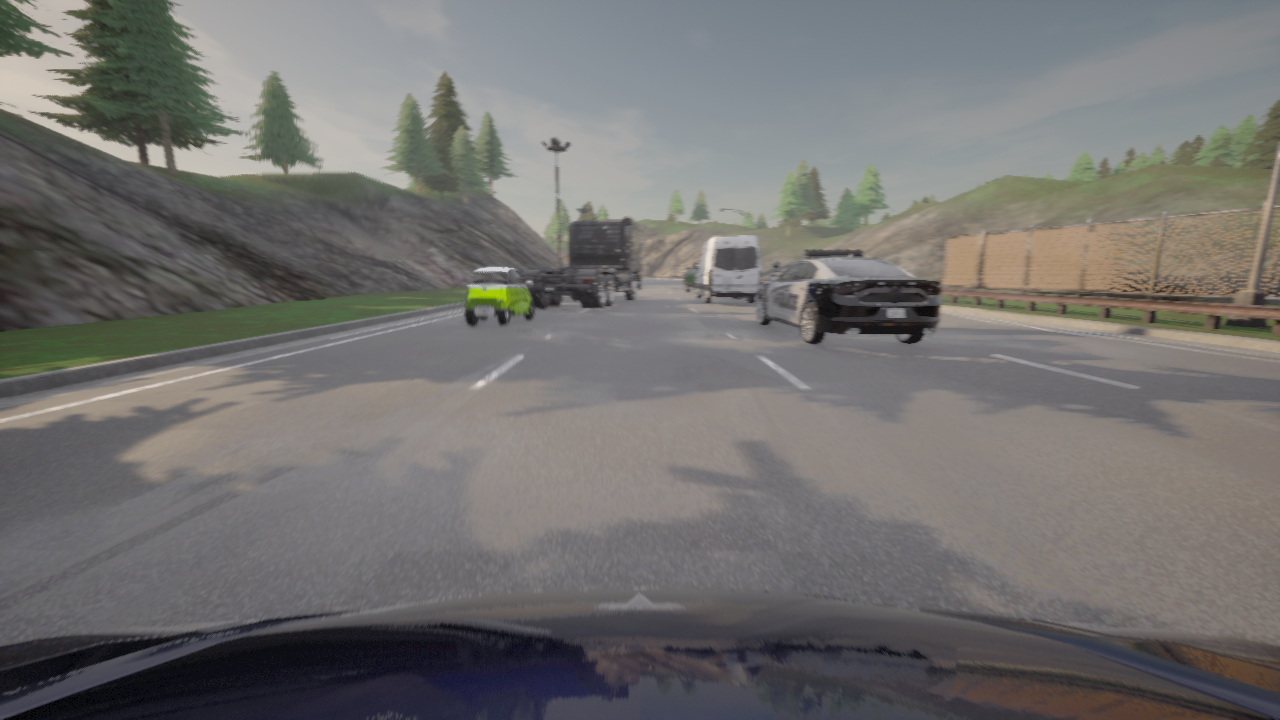cyclist: (0, 588, 1279, 719), (757, 250, 941, 343), (519, 216, 645, 308), (694, 235, 760, 303), (465, 266, 533, 325), (684, 258, 699, 294), (562, 267, 568, 272)
